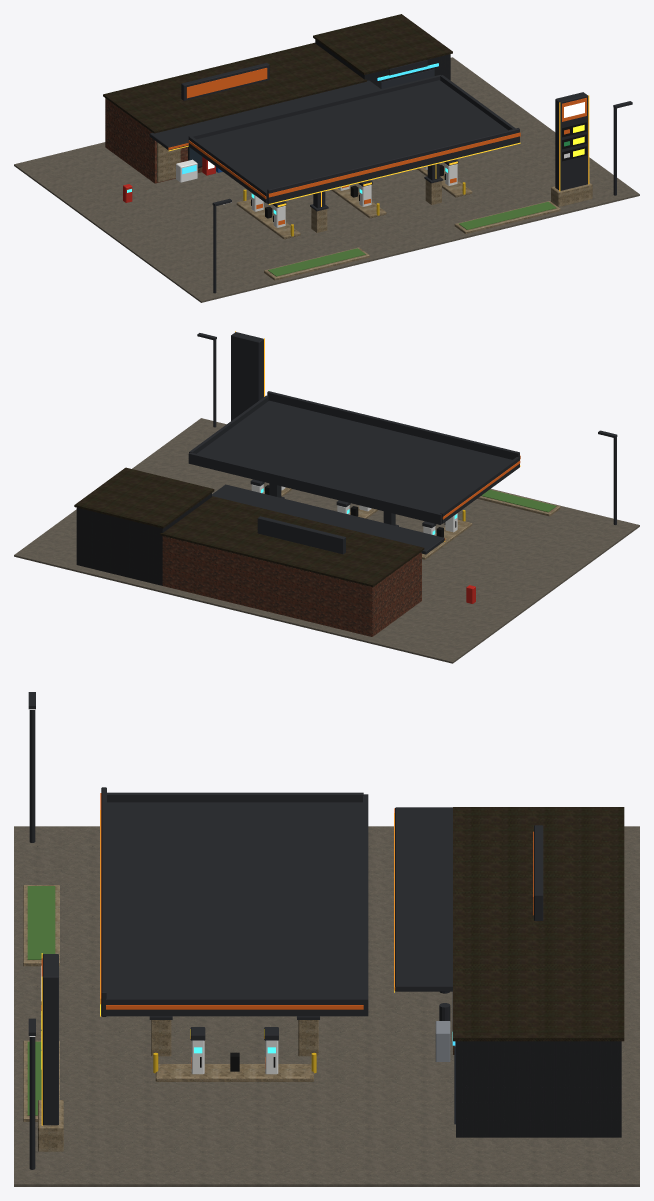
Rendered from OT_GasStation_B.glb.
3 renders of one model, top to bottom at view 1: azimuth 30°, elevation 25°; view 2: azimuth 150°, elevation 25°; view 3: azimuth 270°, elevation 25°, orthographic. The views are drawn at different scales.
Visible parts, largest first — view 1: OT_GasStation_B_Concrete, OT_GasStation_B_Charcoal__26282c, OT_GasStation_B_Metal, OT_GasStation_B_Stone, OT_GasStation_B_Orange__f26b1d, OT_GasStation_B_Brick, OT_GasStation_B_Grass__4f7a3a, OT_GasStation_B_Corrugated, OT_GasStation_B_GlowOrange__ff7a1a, OT_GasStation_B_PumpBody__e9e9e6, OT_GasStation_B_Black__121212, OT_GasStation_B_WashDoor__2c3138; view 2: OT_GasStation_B_Charcoal__26282c, OT_GasStation_B_Concrete, OT_GasStation_B_Metal, OT_GasStation_B_Brick, OT_GasStation_B_Corrugated, OT_GasStation_B_Stone, OT_GasStation_B_Grass__4f7a3a, OT_GasStation_B_PumpBody__e9e9e6; view 3: OT_GasStation_B_Concrete, OT_GasStation_B_Charcoal__26282c, OT_GasStation_B_Metal, OT_GasStation_B_Corrugated, OT_GasStation_B_Stone, OT_GasStation_B_Grass__4f7a3a, OT_GasStation_B_Orange__f26b1d, OT_GasStation_B_PumpBody__e9e9e6, OT_GasStation_B_GlowOrange__ff7a1a.
Part boxes in pixels (bbox=[...]): OT_GasStation_B_Concrete: bbox=[14, 57, 639, 302]; OT_GasStation_B_Charcoal__26282c: bbox=[149, 60, 632, 293]; OT_GasStation_B_Metal: bbox=[103, 14, 452, 133]; OT_GasStation_B_Stone: bbox=[157, 142, 592, 280]; OT_GasStation_B_Orange__f26b1d: bbox=[168, 68, 586, 225]; OT_GasStation_B_Brick: bbox=[105, 98, 202, 183]; OT_GasStation_B_Grass__4f7a3a: bbox=[268, 201, 556, 276]; OT_GasStation_B_Corrugated: bbox=[315, 39, 450, 88]; OT_GasStation_B_GlowOrange__ff7a1a: bbox=[168, 95, 589, 206]; OT_GasStation_B_PumpBody__e9e9e6: bbox=[251, 164, 457, 227]; OT_GasStation_B_Black__121212: bbox=[251, 122, 586, 221]; OT_GasStation_B_WashDoor__2c3138: bbox=[381, 69, 434, 88]; OT_GasStation_B_Charcoal__26282c: bbox=[188, 332, 617, 554]; OT_GasStation_B_Concrete: bbox=[14, 418, 639, 663]; OT_GasStation_B_Metal: bbox=[74, 467, 424, 587]; OT_GasStation_B_Brick: bbox=[162, 536, 421, 636]; OT_GasStation_B_Corrugated: bbox=[76, 493, 211, 585]; OT_GasStation_B_Stone: bbox=[263, 487, 560, 559]; OT_GasStation_B_Grass__4f7a3a: bbox=[481, 489, 556, 512]; OT_GasStation_B_PumpBody__e9e9e6: bbox=[251, 484, 457, 535]; OT_GasStation_B_Concrete: bbox=[14, 826, 639, 1186]; OT_GasStation_B_Charcoal__26282c: bbox=[28, 692, 543, 1169]; OT_GasStation_B_Metal: bbox=[453, 807, 624, 1041]; OT_GasStation_B_Corrugated: bbox=[456, 1041, 621, 1137]; OT_GasStation_B_Stone: bbox=[23, 885, 318, 1151]; OT_GasStation_B_Grass__4f7a3a: bbox=[27, 886, 55, 1115]; OT_GasStation_B_Orange__f26b1d: bbox=[41, 793, 533, 1068]; OT_GasStation_B_PumpBody__e9e9e6: bbox=[191, 1040, 278, 1074]; OT_GasStation_B_GlowOrange__ff7a1a: bbox=[41, 810, 394, 1125].
Bounding box in the file's own units: 46 × 10.5 × 34.
Materials: 25 (6 with a texture image).
